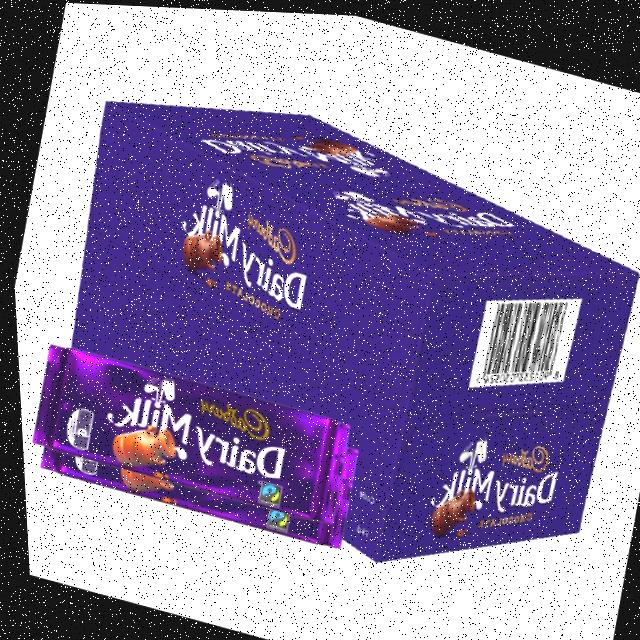cadbury: (13, 311, 374, 572), (370, 373, 601, 597), (113, 172, 360, 348)
